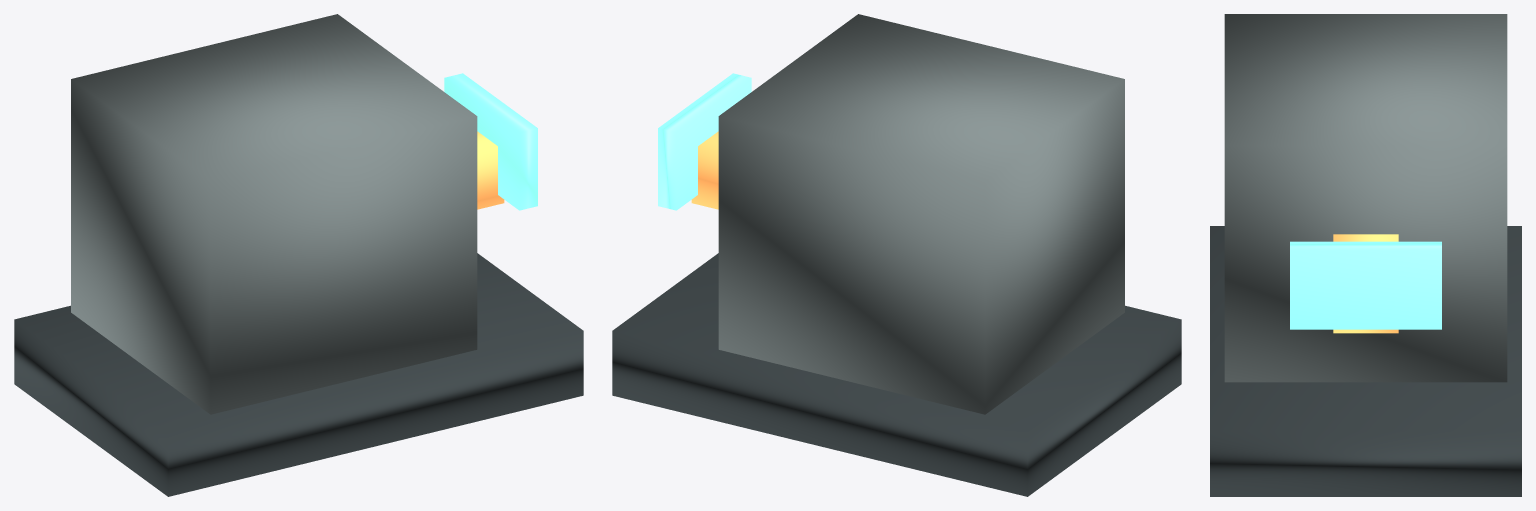
File: spin-habitat-attitude-flywheel-lod2.glb
3 renders of one model, left to right at view 1: azimuth 30°, elevation 25°; view 2: azimuth 150°, elevation 25°; view 3: azimuth 270°, elevation 25°, orthographic.
Parts seen in each view (by area): view 1: spin-habitat-attitude-flywheel-cage, spin-habitat-attitude-flywheel-skid, spin-habitat-interactable-status, spin-habitat-attitude-flywheel-axle; view 2: spin-habitat-attitude-flywheel-cage, spin-habitat-attitude-flywheel-skid, spin-habitat-interactable-status, spin-habitat-attitude-flywheel-axle; view 3: spin-habitat-attitude-flywheel-cage, spin-habitat-attitude-flywheel-skid, spin-habitat-interactable-status, spin-habitat-attitude-flywheel-axle.
Boxes of the visible parts, bbox=[...] form: spin-habitat-attitude-flywheel-cage: bbox=[71, 14, 477, 414]; spin-habitat-attitude-flywheel-skid: bbox=[14, 253, 583, 496]; spin-habitat-interactable-status: bbox=[444, 73, 537, 210]; spin-habitat-attitude-flywheel-axle: bbox=[477, 131, 504, 209]; spin-habitat-attitude-flywheel-cage: bbox=[718, 14, 1124, 414]; spin-habitat-attitude-flywheel-skid: bbox=[612, 253, 1181, 496]; spin-habitat-interactable-status: bbox=[658, 73, 751, 210]; spin-habitat-attitude-flywheel-axle: bbox=[691, 131, 718, 209]; spin-habitat-attitude-flywheel-cage: bbox=[1224, 14, 1507, 382]; spin-habitat-attitude-flywheel-skid: bbox=[1210, 226, 1521, 496]; spin-habitat-interactable-status: bbox=[1290, 241, 1441, 329]; spin-habitat-attitude-flywheel-axle: bbox=[1333, 234, 1398, 333].
Bounding box in the file's own units: 1.34 × 0.92 × 0.86.
